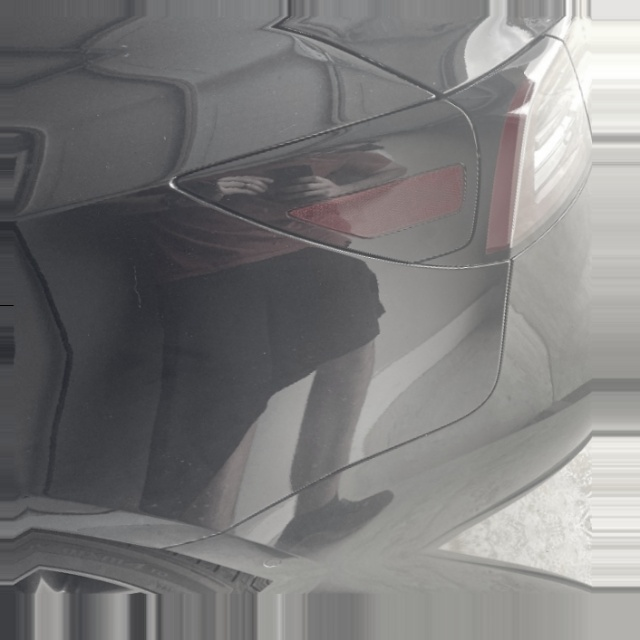reflector: (281, 157, 477, 255)
